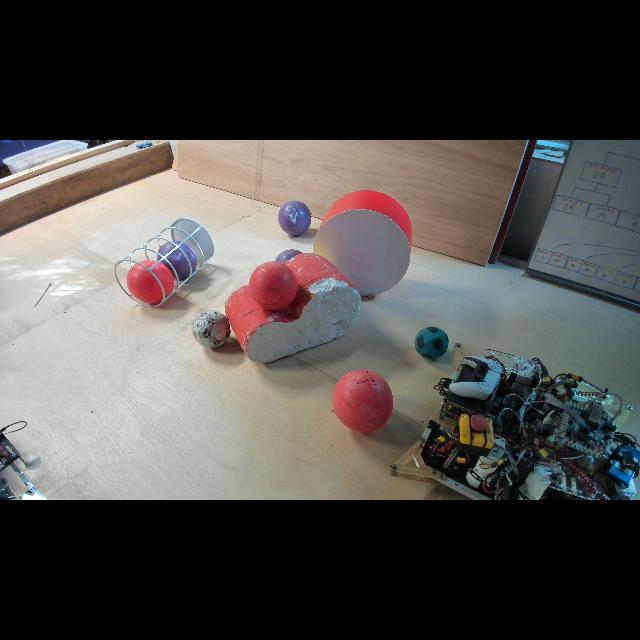P: (156, 240, 198, 280), (278, 200, 312, 236), (275, 249, 305, 263)
R: (332, 369, 394, 433), (250, 262, 298, 310), (126, 260, 174, 304)
S: (114, 216, 218, 310)
